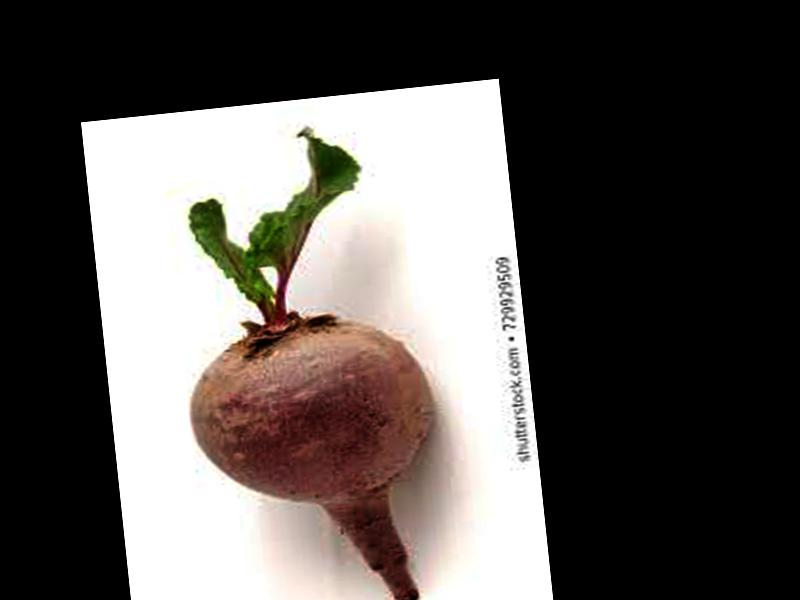Beet: (163, 117, 450, 600)
